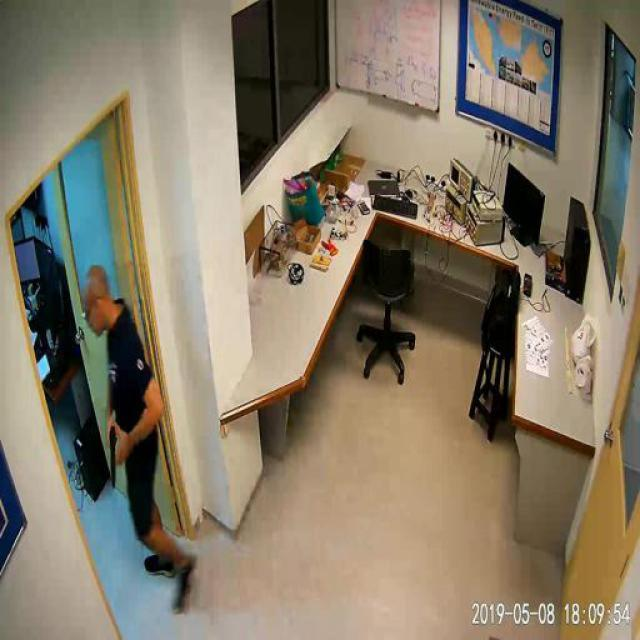weapon: (104, 426, 120, 490)
